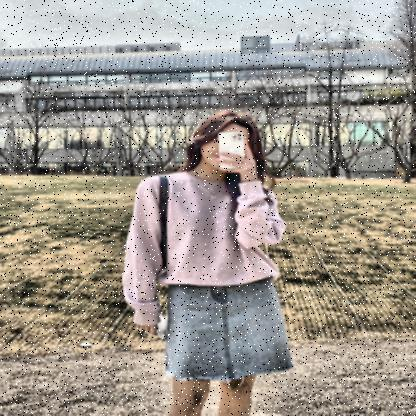skirt: (163, 277, 294, 384)
sweater: (118, 170, 291, 325)
